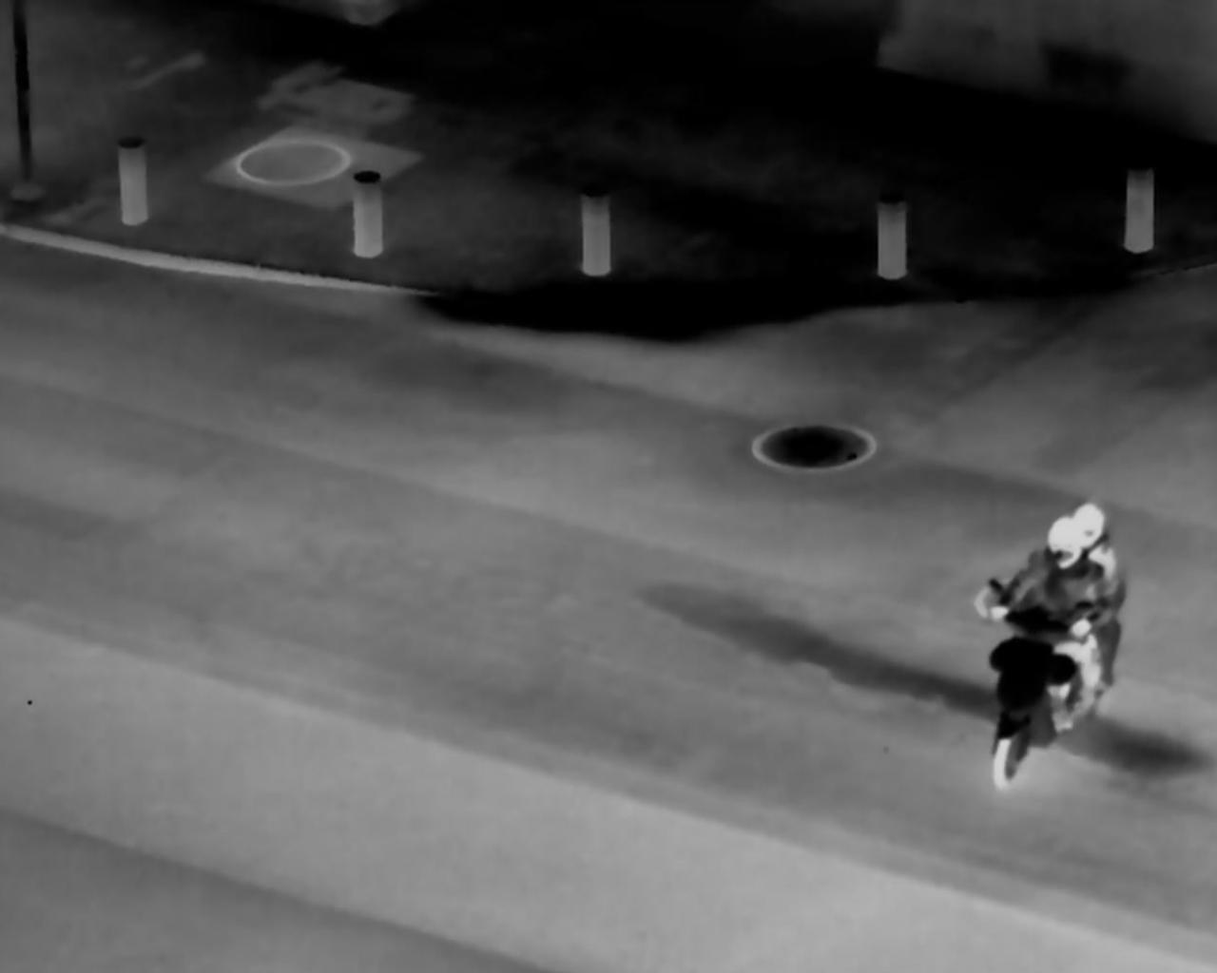person: (989, 516, 1113, 764), (1035, 502, 1124, 721)
